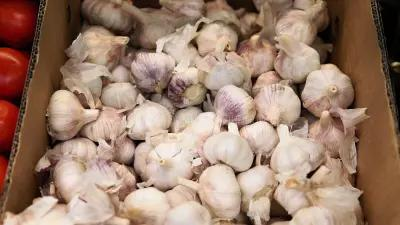garlic: (52, 2, 360, 225)
